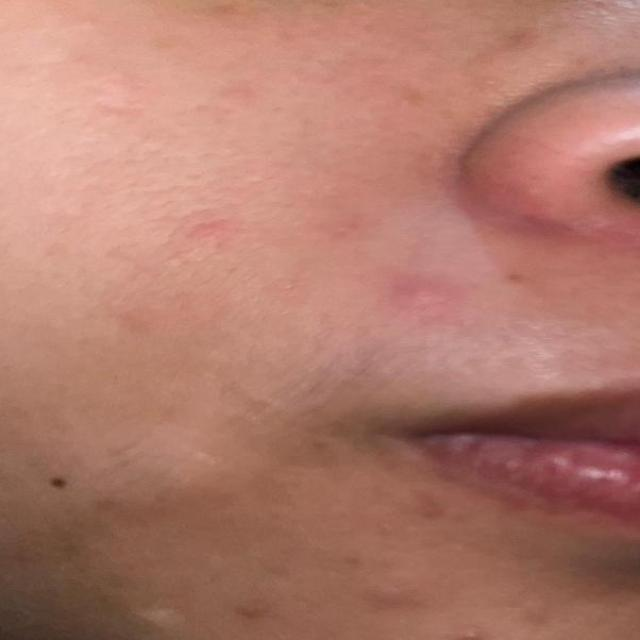papule: (363, 256, 515, 321), (347, 545, 453, 631)
pustule: (446, 616, 504, 640)
